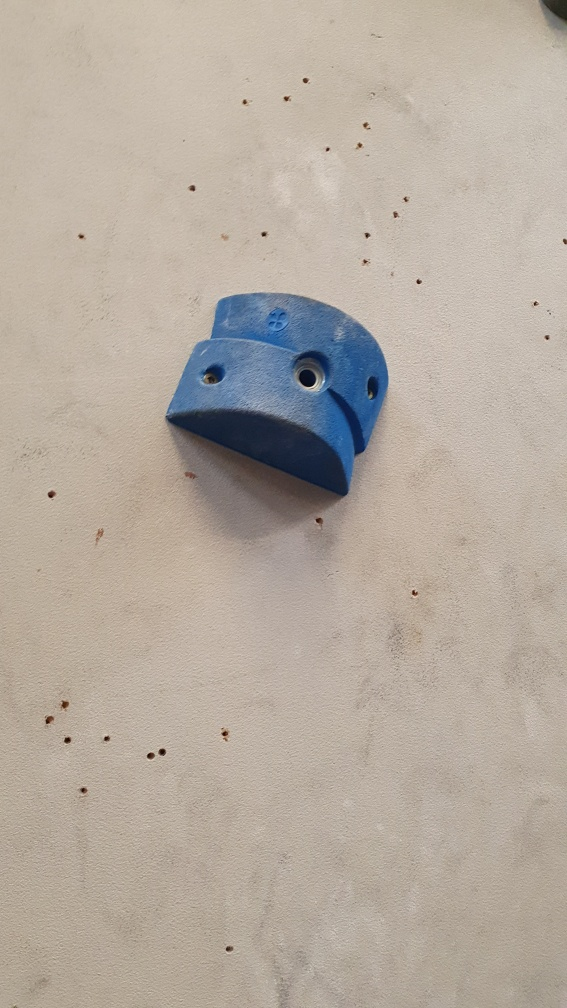Pinch: (166, 281, 395, 499)
